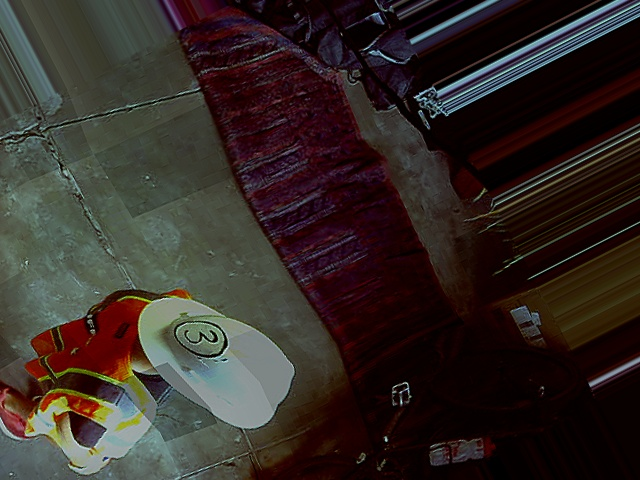three: (165, 313, 239, 362)
